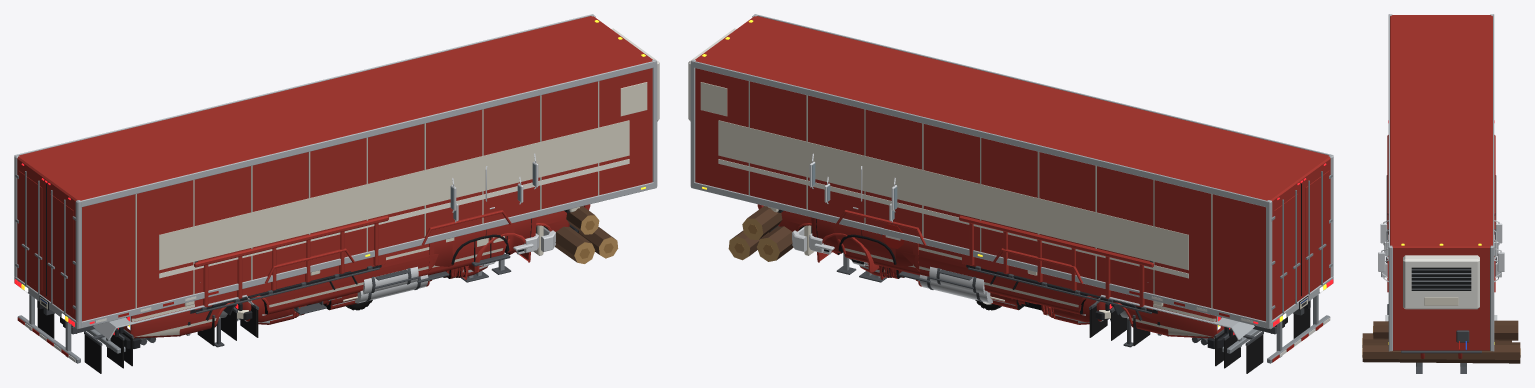
Rendered from vehicles.glb.
The picture shows the model from 3 angles, left to right: view 1: azimuth 30°, elevation 25°; view 2: azimuth 150°, elevation 25°; view 3: azimuth 270°, elevation 25°; orthographic projection. The views are drawn at different scales.
Parts seen in each view (by area): view 1: trailer_box, school_bus, semi_cabover, dump_truck.bed, log_loader.load, semi_conventional, trailer_tanker, flatbed_truck, log_loader, step_van, trailer_logs; view 2: trailer_box, school_bus, dump_truck.bed, semi_cabover, log_loader.load, semi_conventional, trailer_tanker, flatbed_truck, log_loader, step_van, sedan_luxury, trailer_logs; view 3: trailer_box, log_loader.load, semi_cabover, log_loader, flatbed_truck, dump_truck.bed, semi_conventional, school_bus.
Boxes of the visible parts, x1=… form: trailer_box: x1=14, y1=14, x2=659, y2=373; school_bus: x1=119, y1=177, x2=578, y2=348; semi_cabover: x1=220, y1=153, x2=538, y2=340; dump_truck.bed: x1=194, y1=215, x2=388, y2=310; log_loader.load: x1=555, y1=206, x2=618, y2=263; semi_conventional: x1=197, y1=178, x2=555, y2=345; trailer_tanker: x1=60, y1=271, x2=488, y2=368; flatbed_truck: x1=186, y1=203, x2=524, y2=337; log_loader: x1=265, y1=204, x2=590, y2=283; step_van: x1=238, y1=280, x2=431, y2=322; trailer_logs: x1=94, y1=207, x2=579, y2=366; trailer_box: x1=688, y1=14, x2=1333, y2=373; school_bus: x1=769, y1=177, x2=1228, y2=348; dump_truck.bed: x1=959, y1=215, x2=1153, y2=310; semi_cabover: x1=809, y1=153, x2=1127, y2=340; log_loader.load: x1=728, y1=206, x2=793, y2=261; semi_conventional: x1=792, y1=178, x2=1150, y2=345; trailer_tanker: x1=859, y1=271, x2=1287, y2=368; flatbed_truck: x1=823, y1=203, x2=1161, y2=337; log_loader: x1=757, y1=204, x2=1082, y2=283; step_van: x1=867, y1=263, x2=1109, y2=322; sedan_luxury: x1=851, y1=259, x2=1103, y2=324; trailer_logs: x1=768, y1=207, x2=1253, y2=366; trailer_box: x1=1388, y1=14, x2=1494, y2=353; log_loader.load: x1=1362, y1=320, x2=1520, y2=363; semi_cabover: x1=1378, y1=230, x2=1504, y2=321; log_loader: x1=1387, y1=215, x2=1495, y2=373; flatbed_truck: x1=1384, y1=175, x2=1498, y2=257; dump_truck.bed: x1=1387, y1=135, x2=1495, y2=241; semi_conventional: x1=1380, y1=220, x2=1502, y2=245; school_bus: x1=1381, y1=260, x2=1501, y2=314.
Bounding box in the file's own units: 13.27 × 4.38 × 3.71.
